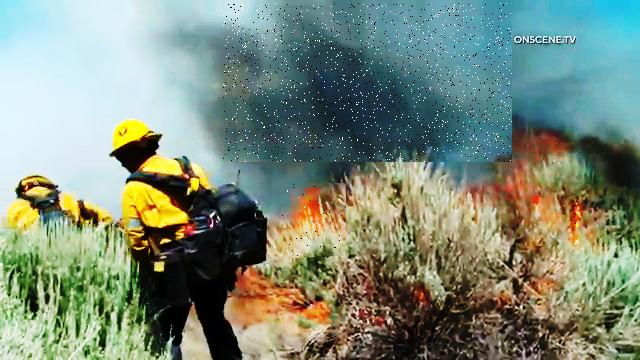fire: (223, 3, 512, 162), (281, 184, 346, 261)
